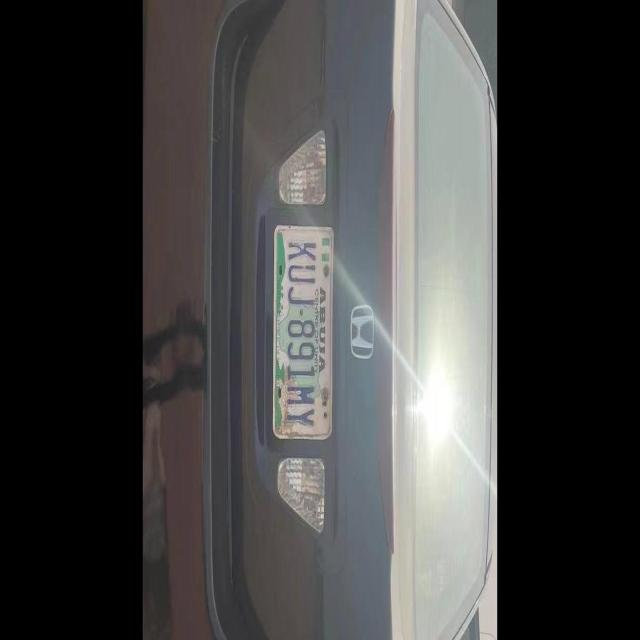Nigerian License Plate - vdataset benjamin-daria: (270, 222, 336, 442)
